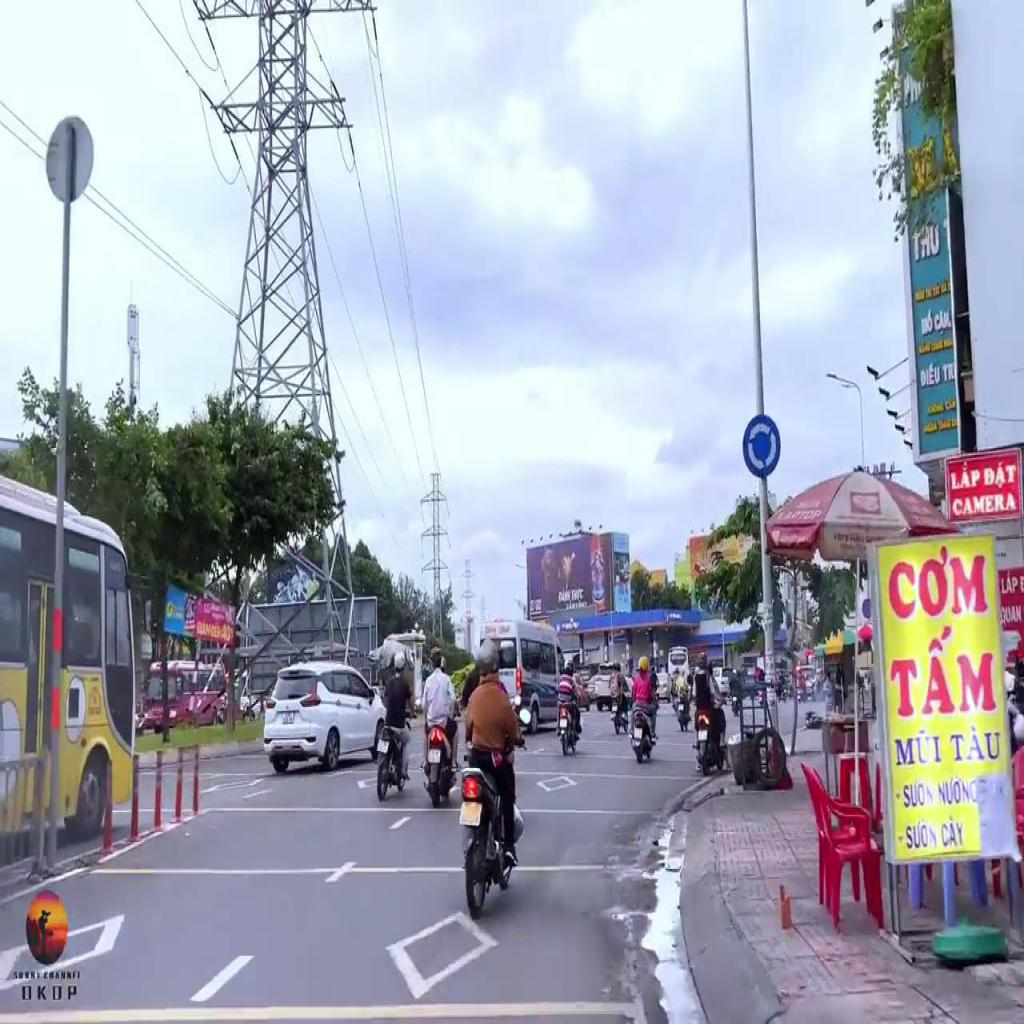noi_giao_nhau_chay_theo_vong: (744, 416, 780, 480)
